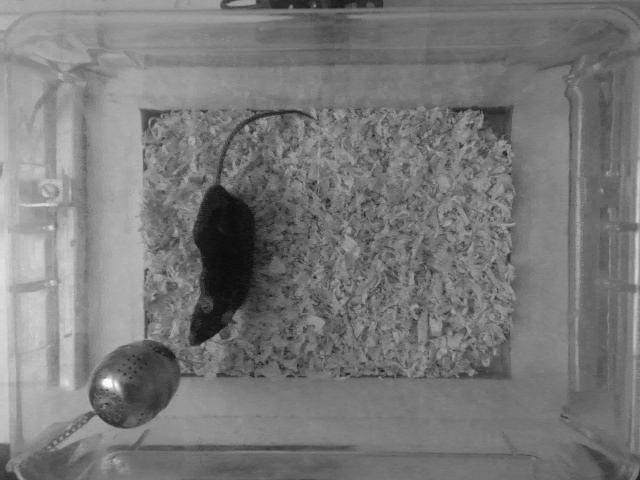mice: (179, 101, 317, 357)
